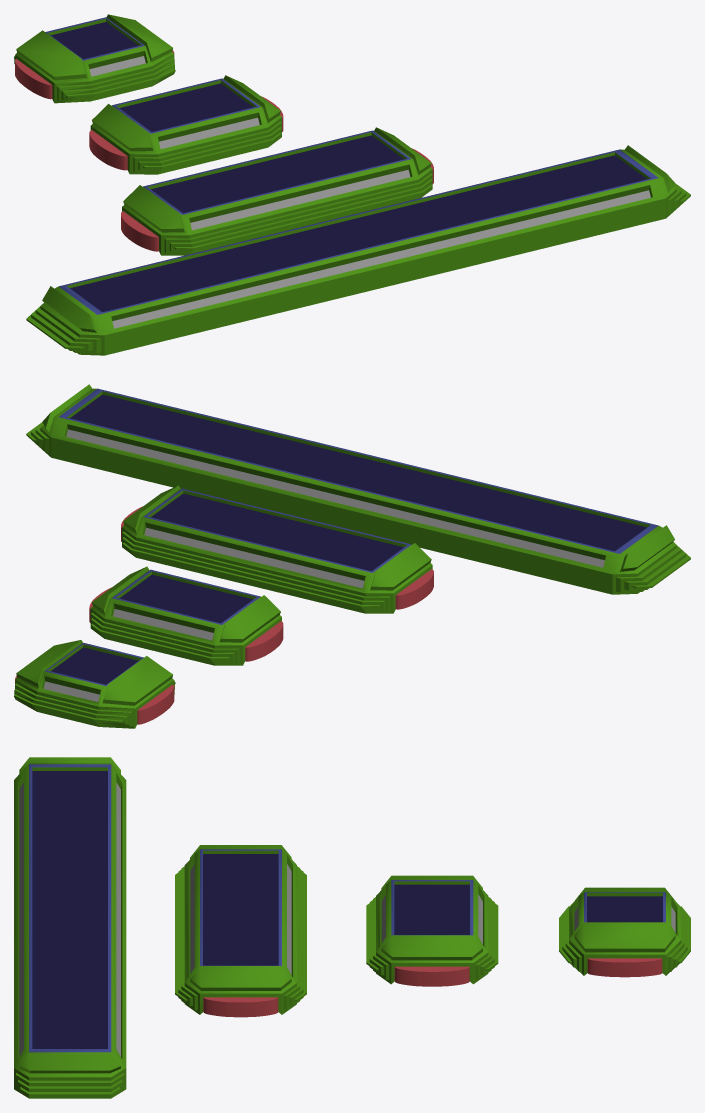
Rendered from 3D Buttons.FBX.
3 renders of one model, top to bottom at view 1: azimuth 30°, elevation 25°; view 2: azimuth 150°, elevation 25°; view 3: azimuth 270°, elevation 25°, orthographic. The views are drawn at different scales.
Parts seen in each view (by area): view 1: Box002, Box001, Box003, Box004; view 2: Box002, Box001, Box003, Box004; view 3: Box002, Box001, Box003, Box004.
Part boxes in pixels (left/top/right/bottom): Box002: left=26, top=145, right=690, bottom=355; Box001: left=121, top=127, right=433, bottom=255; Box003: left=89, top=75, right=283, bottom=174; Box004: left=14, top=14, right=175, bottom=103; Box002: left=26, top=384, right=690, bottom=594; Box001: left=121, top=485, right=433, bottom=613; Box003: left=89, top=566, right=283, bottom=665; Box004: left=14, top=640, right=175, bottom=728; Box002: left=14, top=757, right=126, bottom=1098; Box001: left=175, top=845, right=306, bottom=1017; Box003: left=366, top=875, right=498, bottom=986; Box004: left=559, top=887, right=690, bottom=977.
Bounding box in the file's own units: 88.97 × 5.16 × 79.31.
